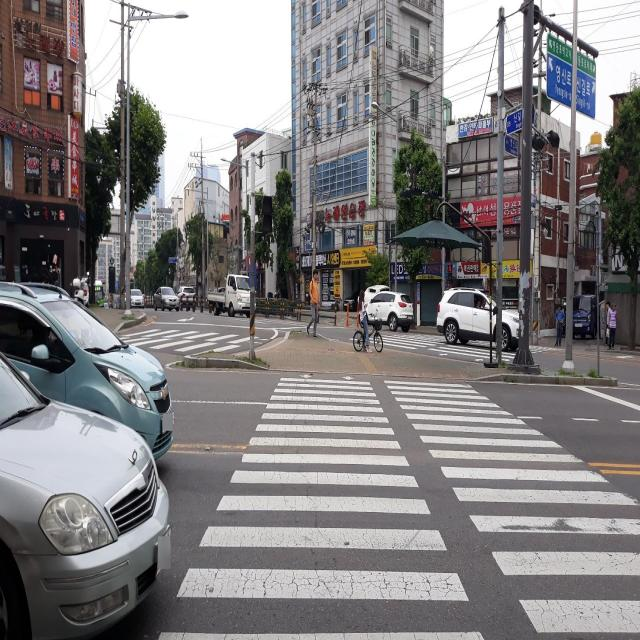빨간불: (446, 261, 454, 287)
횡단보도: (158, 370, 640, 640), (351, 330, 535, 362), (123, 332, 263, 347)
